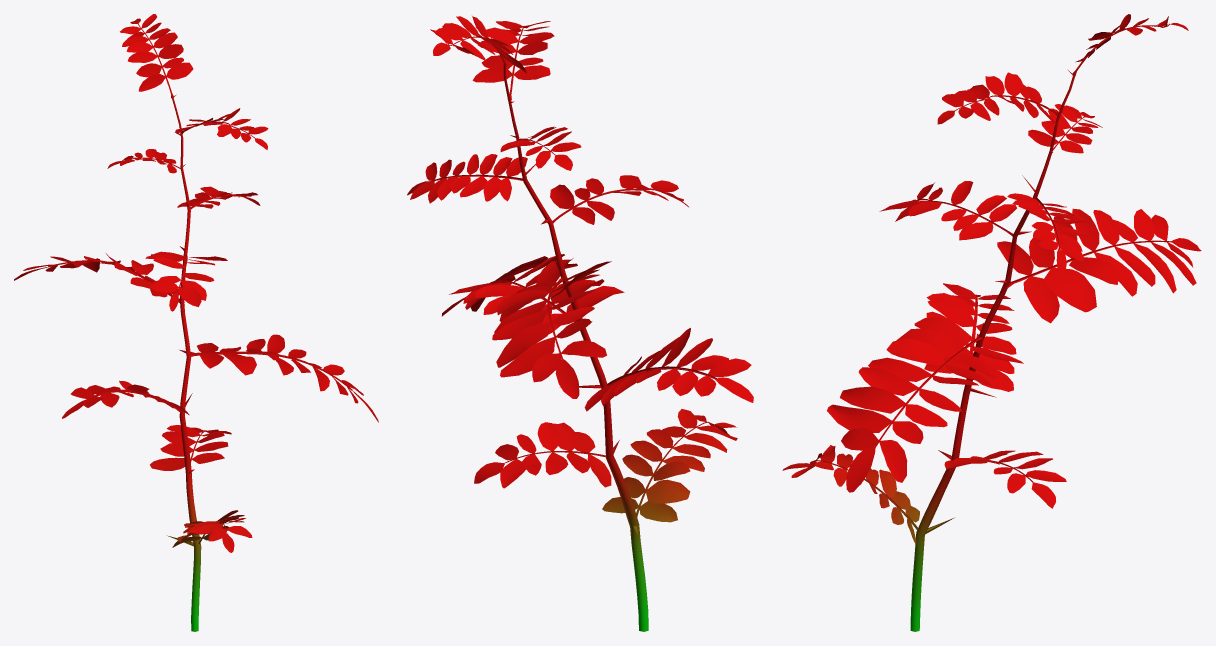
The model's file is Black Locust_LOD0_Var3.fbx.
The picture shows the model from 3 angles, left to right: view 1: azimuth 30°, elevation 25°; view 2: azimuth 150°, elevation 25°; view 3: azimuth 270°, elevation 25°; orthographic projection. The views are drawn at different scales.
Parts seen in each view (by area): view 1: _xat6_Var3_LOD0; view 2: _xat6_Var3_LOD0; view 3: _xat6_Var3_LOD0.
Boxes of the visible parts, bbox=[...] form: _xat6_Var3_LOD0: bbox=[14, 14, 378, 631]; _xat6_Var3_LOD0: bbox=[407, 16, 753, 631]; _xat6_Var3_LOD0: bbox=[782, 14, 1201, 631].
Size of the model in its own units: 26.11 by 48.35 by 28.62.
